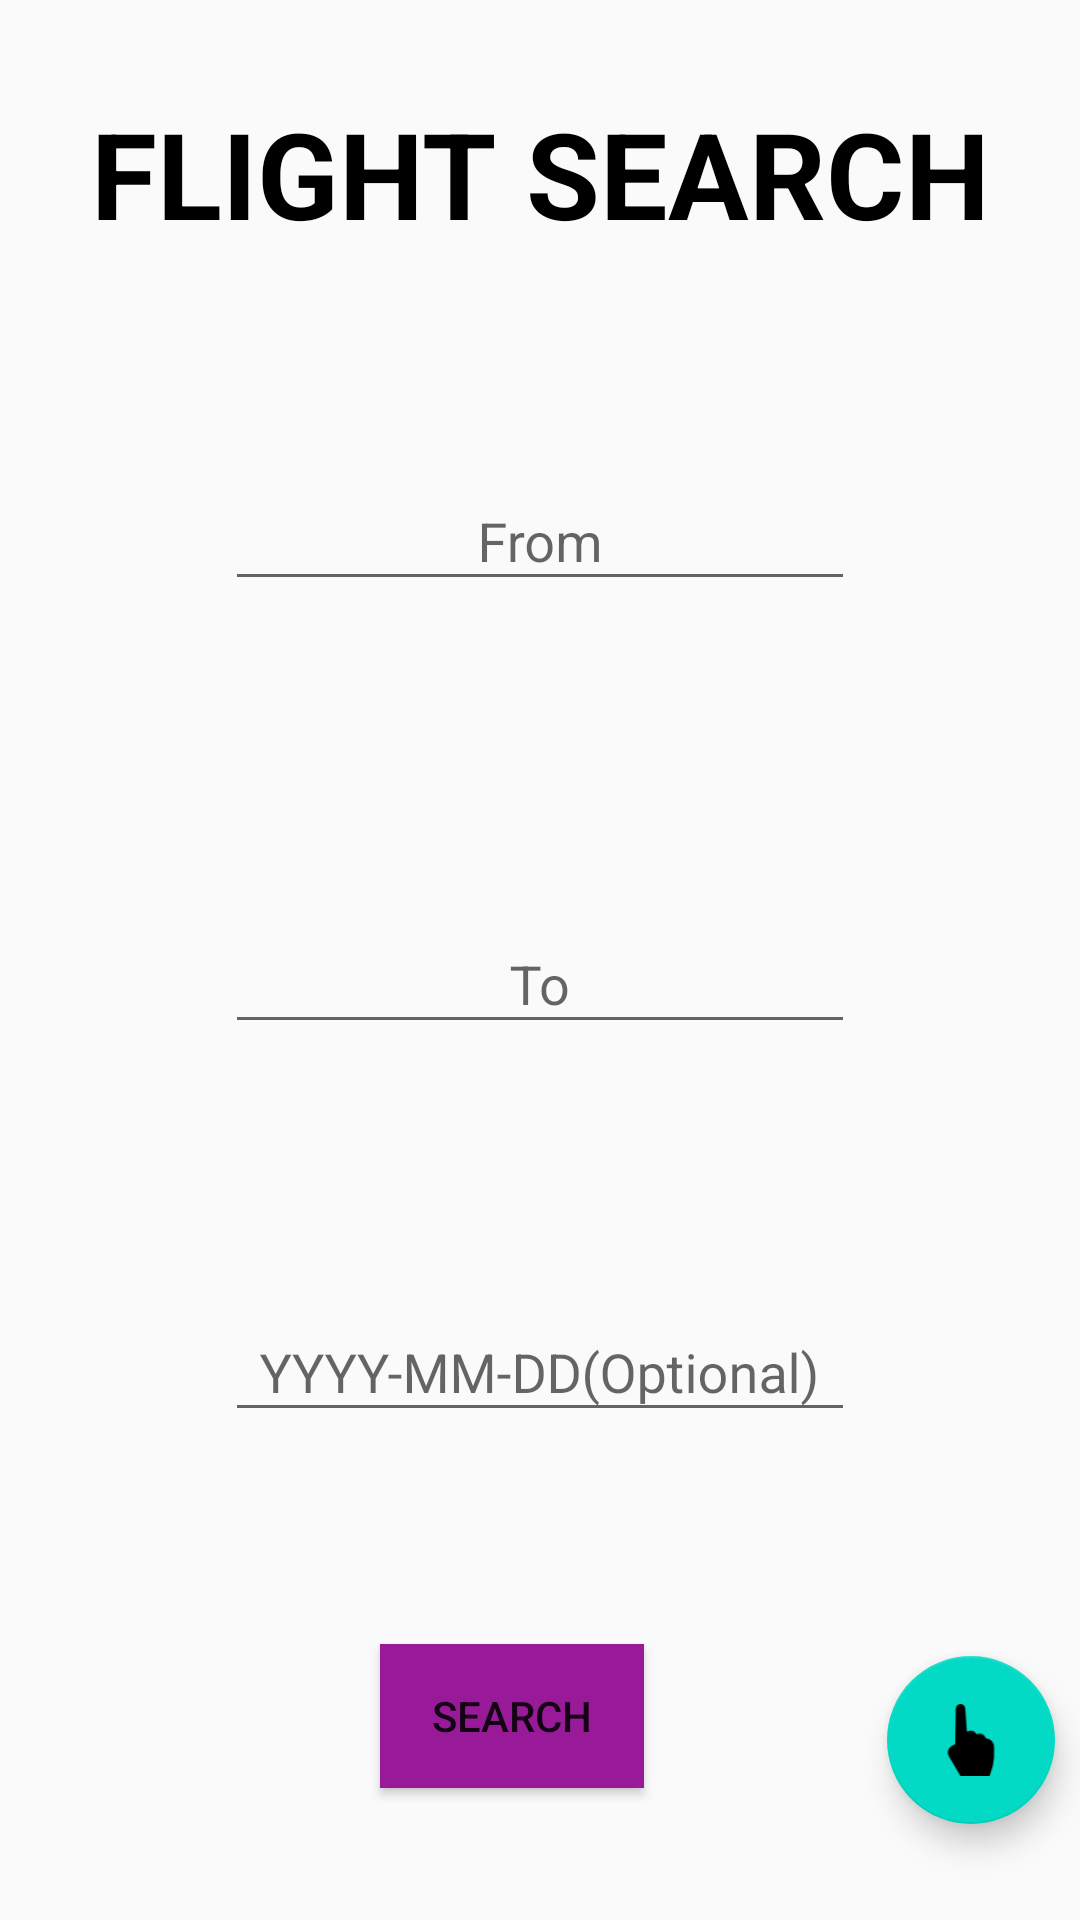

Point at icon controls on the screen. Image size 1080*1920, points as [x,y].
finger: [971,1740]
